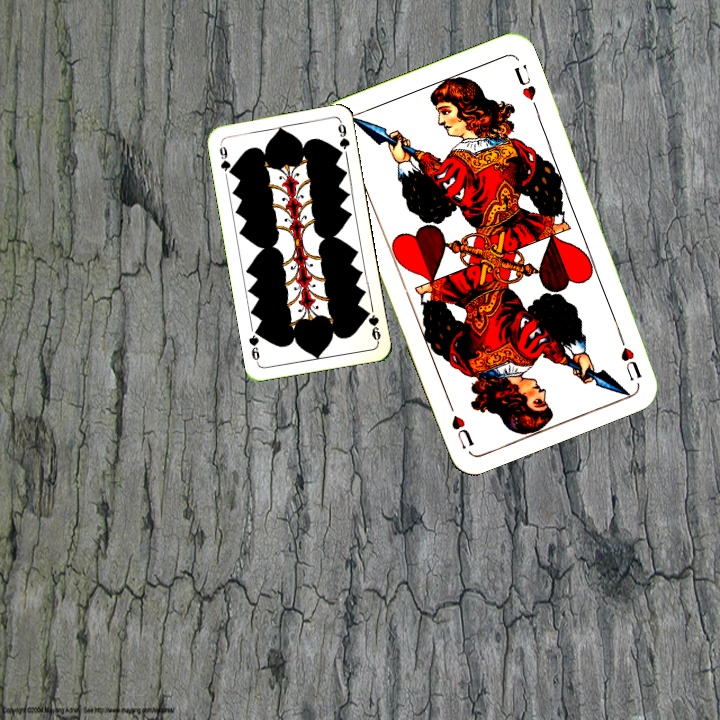G9: (361, 306, 383, 345), (215, 139, 235, 178)
HU: (614, 327, 644, 384)
